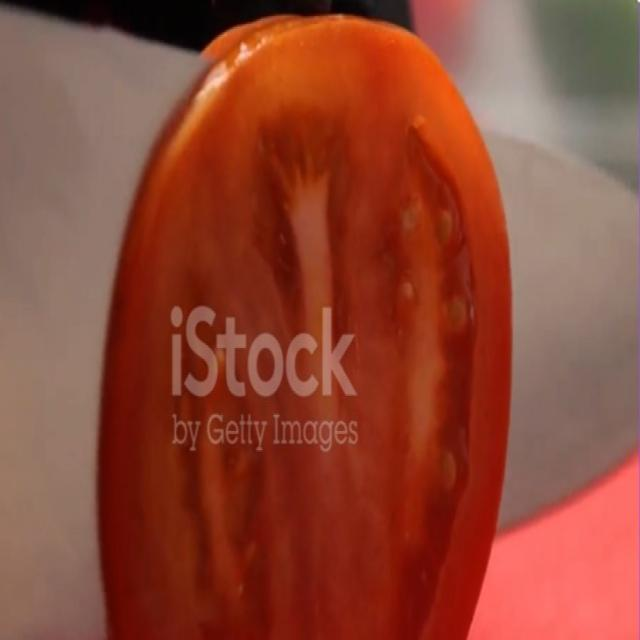knives: (482, 81, 640, 524)
